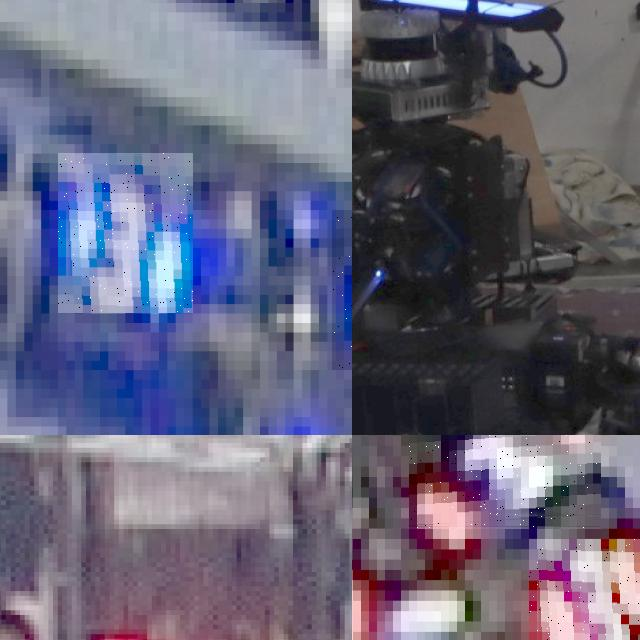B3: (58, 154, 193, 314)
R3: (409, 435, 601, 528), (529, 539, 640, 640)
